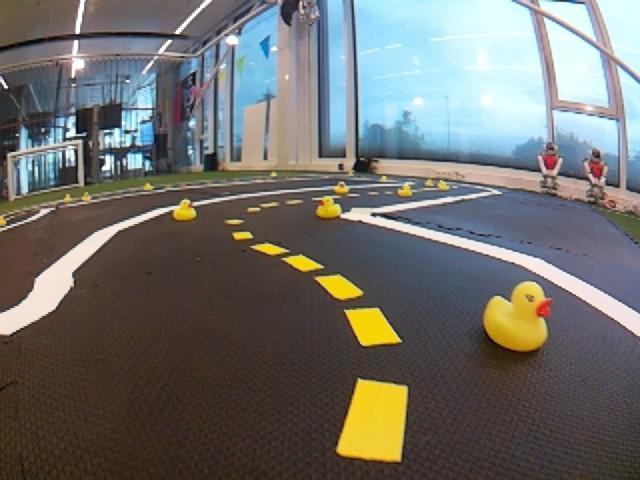Duckies: (482, 280, 551, 352), (173, 198, 197, 221), (316, 197, 342, 218), (333, 182, 349, 194), (398, 185, 413, 196), (437, 181, 450, 191), (0, 210, 7, 226), (81, 192, 91, 201), (63, 193, 72, 202), (145, 183, 153, 191), (425, 179, 434, 186), (380, 176, 388, 182), (348, 169, 354, 177), (271, 173, 277, 177)
